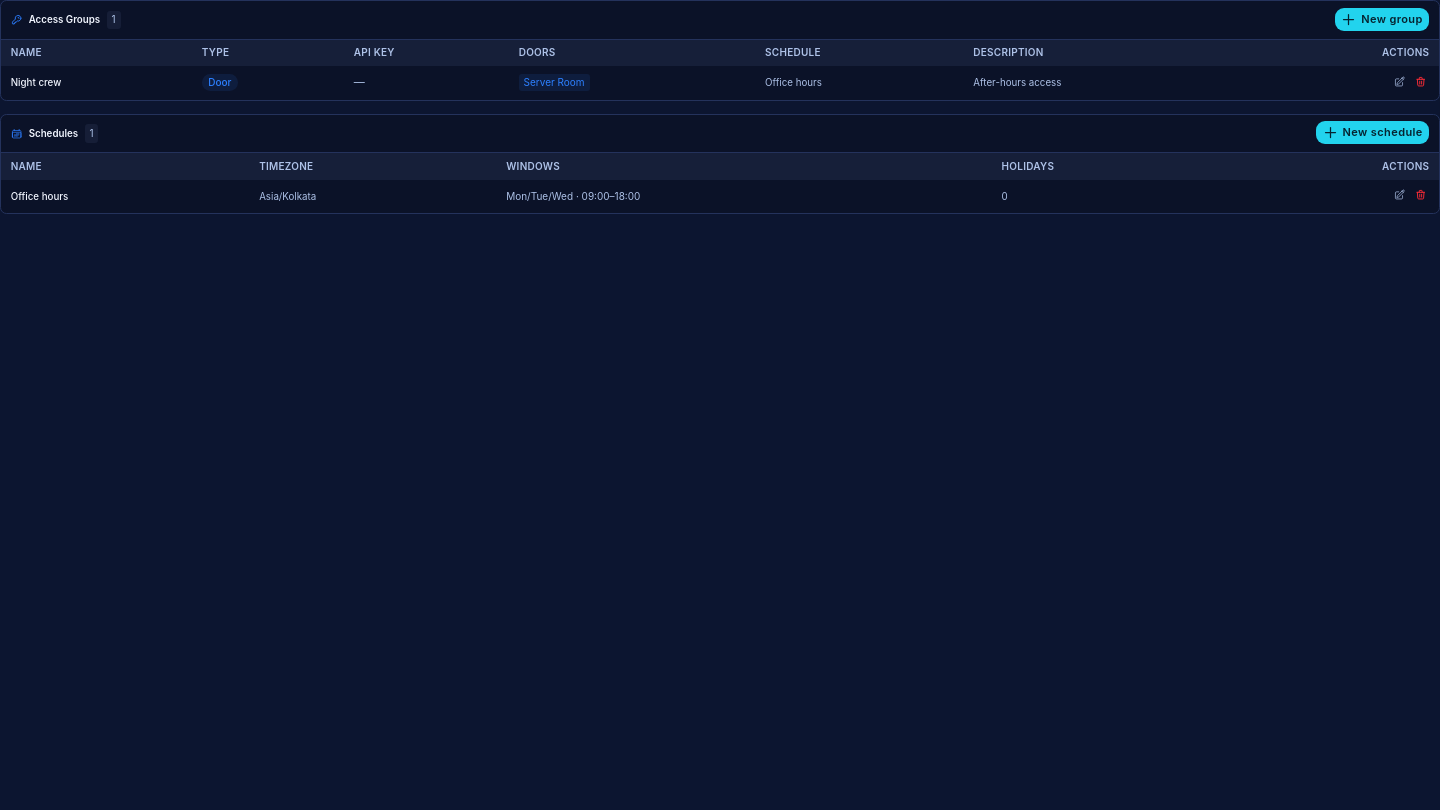
Test: deleting an access group › asks for confirmation and sends nothing until it is given
Expected: the text "Night crew" is shown, top-left (1, 66), bottom-right (192, 100)
Step 1. Click the button named "Delete" in the row of "Night crew" → coordinates (1420, 81), box top-left (1411, 72), bottom-right (1429, 90)
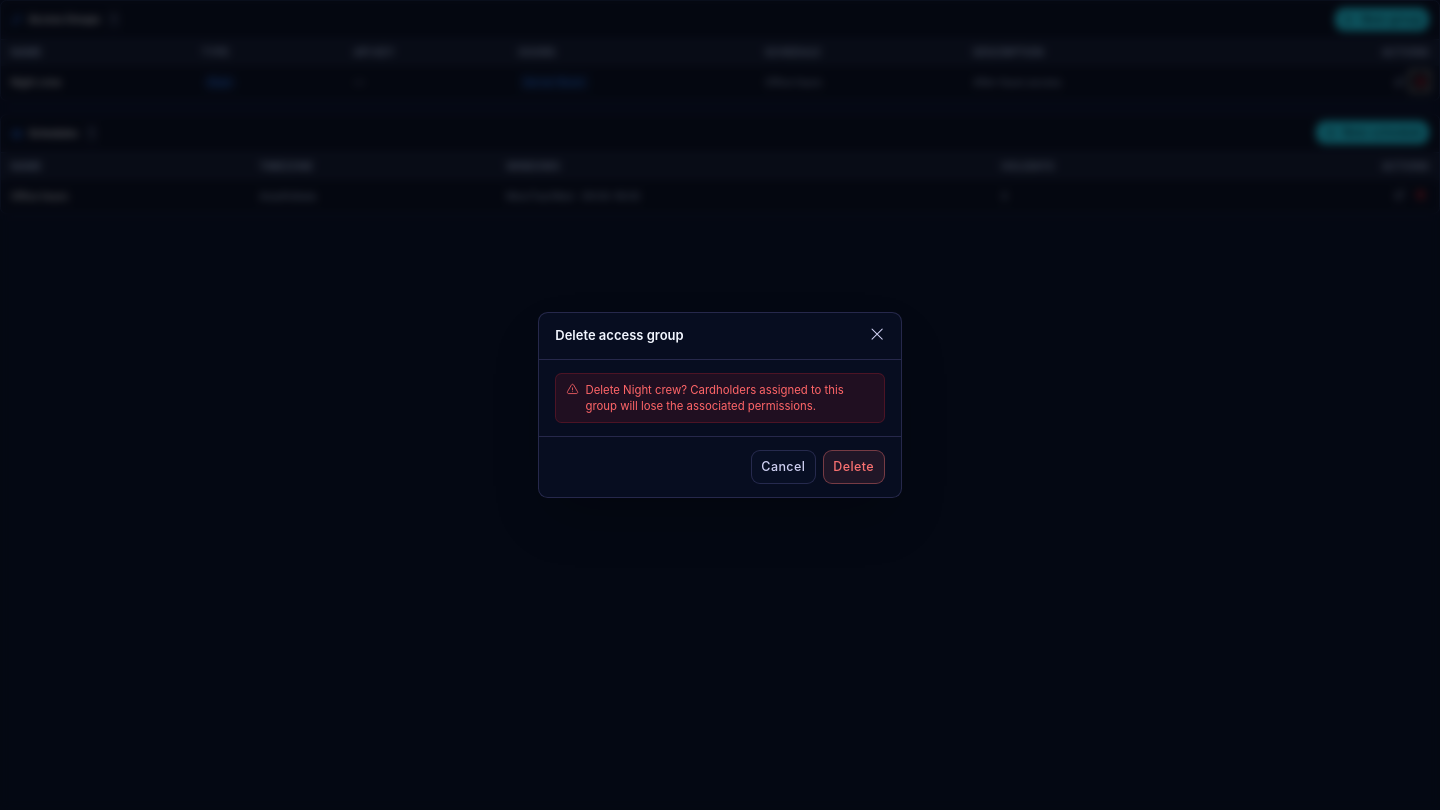
Now the text "will lose the associated permissions" is shown, box top-left (586, 383), bottom-right (844, 413)
